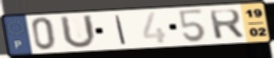0: (30, 16, 59, 52)
4: (141, 11, 169, 45)
5: (177, 7, 207, 44)
I: (114, 14, 128, 45)
R: (207, 8, 247, 41)
U: (58, 14, 98, 50)
